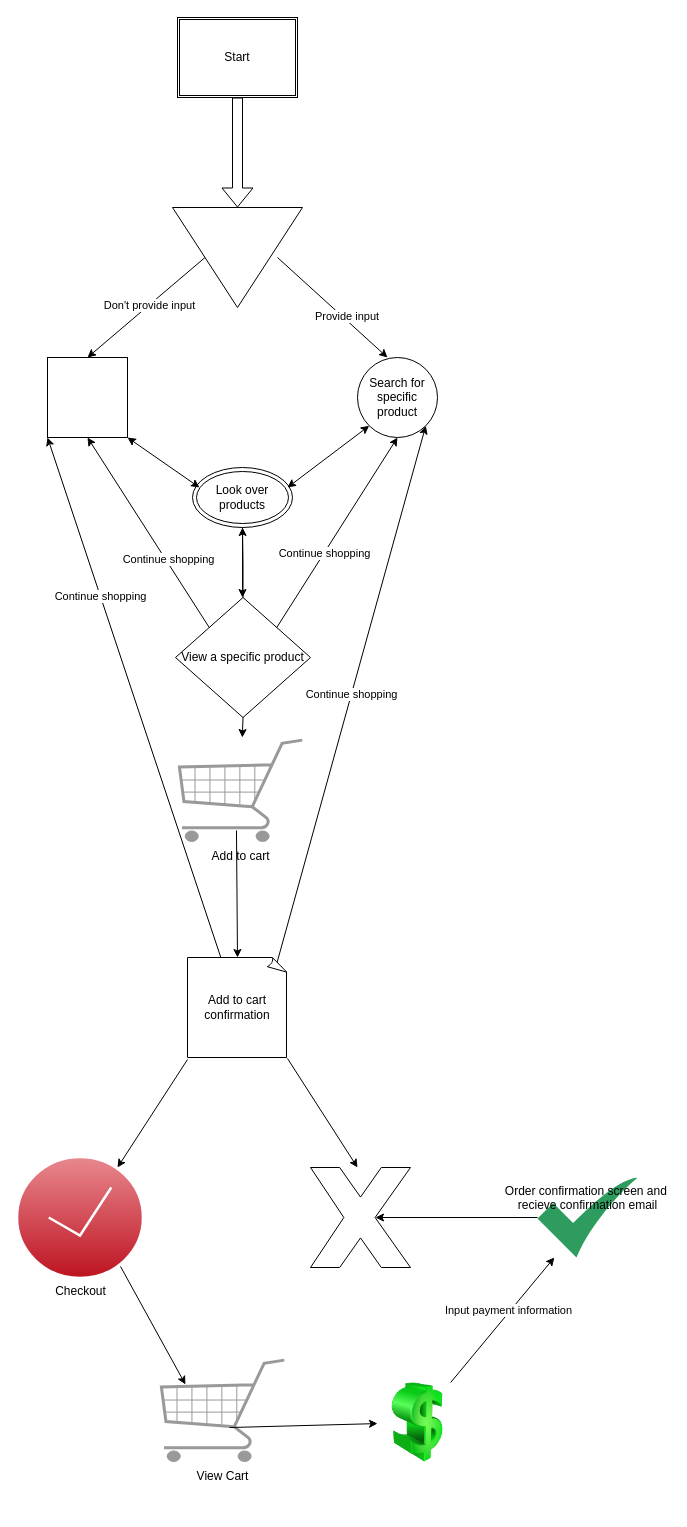
Image size: 687x1527. Some labels were removed from this diagram. The box of each missing label's shape, as (x1, y1, x2, y2) in pixels:
Enter Website: (172, 206, 302, 308)
Explore products on home page: (46, 356, 128, 438)
Leave website: (310, 1166, 410, 1268)
View Payment: (377, 1382, 457, 1462)
